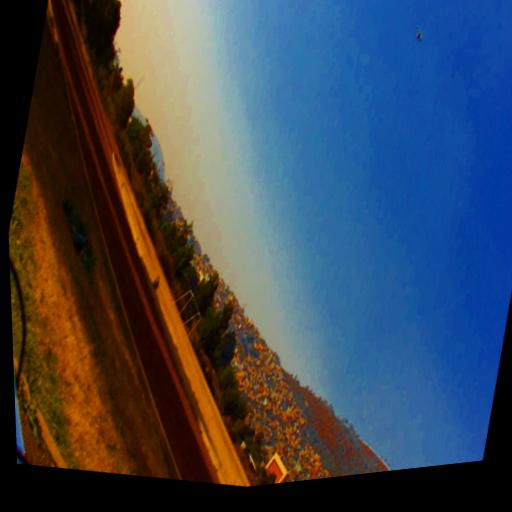drones: (411, 23, 427, 46)
